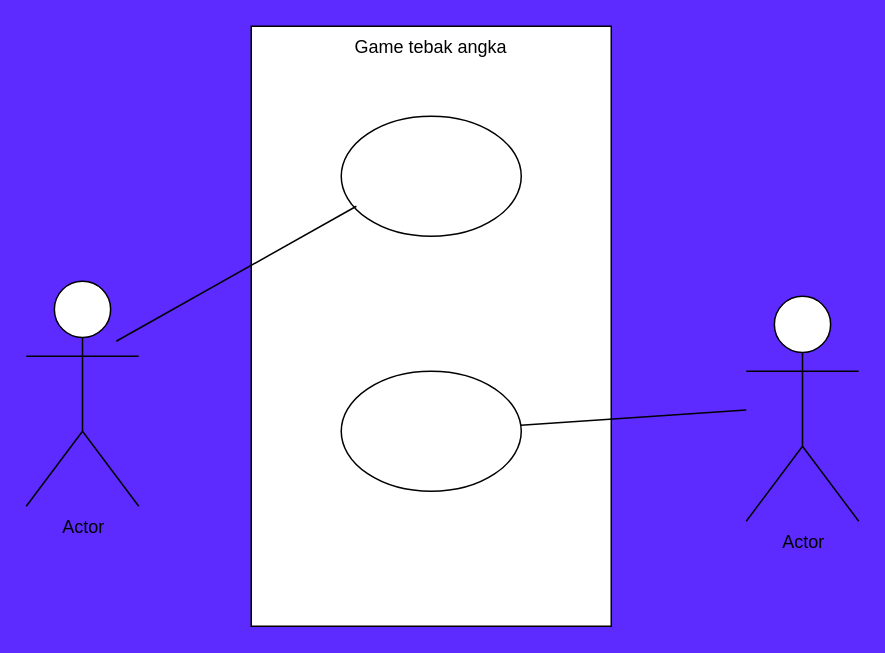
Image size: 885x653. Some labels were removed from this diagram. Each missing label, with the centre of its shape:
"Random angka" goes at pixel 430 175.
"Tebak angka" goes at pixel 430 430.
